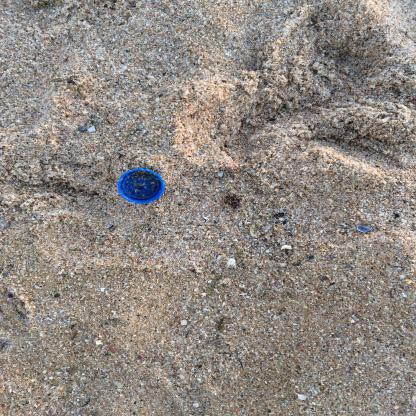plastik: (118, 169, 166, 205)
